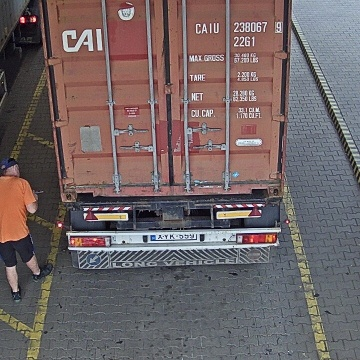serial_id: (196, 21, 282, 33)
